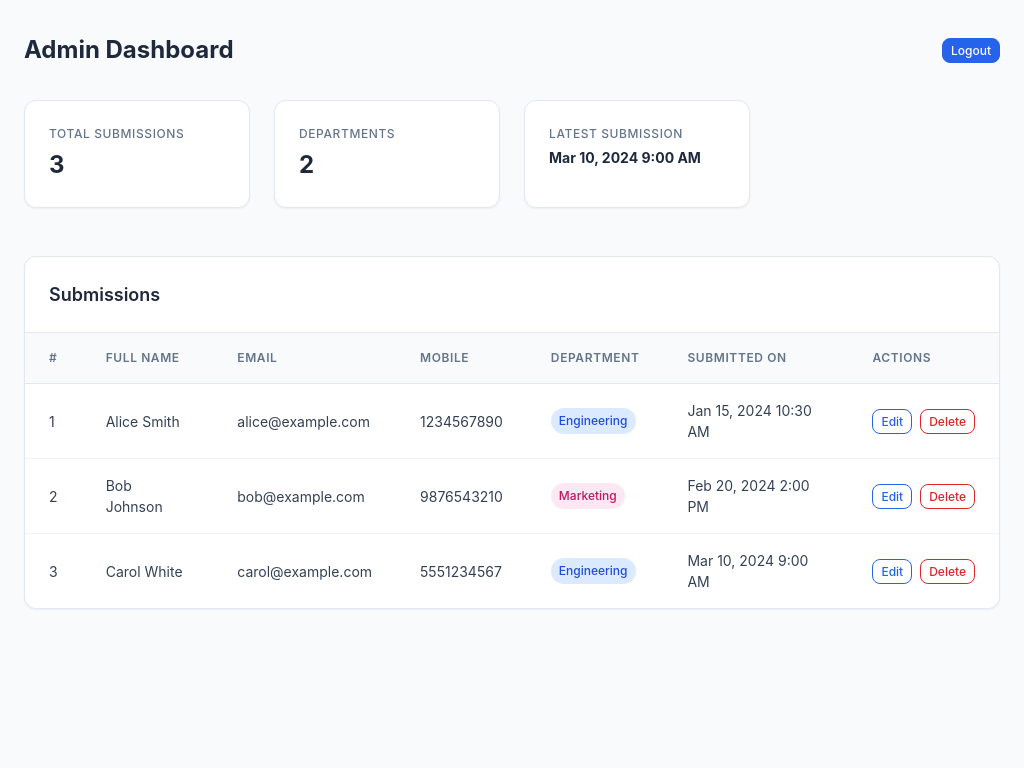
Scenario: AdminDashboard › edit button opens modal › opens the edit modal when Edit button is clicked
What coordinates should you click on to do the following:
click the button "Edit" in the row of "Alice Smith"
I would click on:
 (892, 421)
Its box is [872,408,912,434].
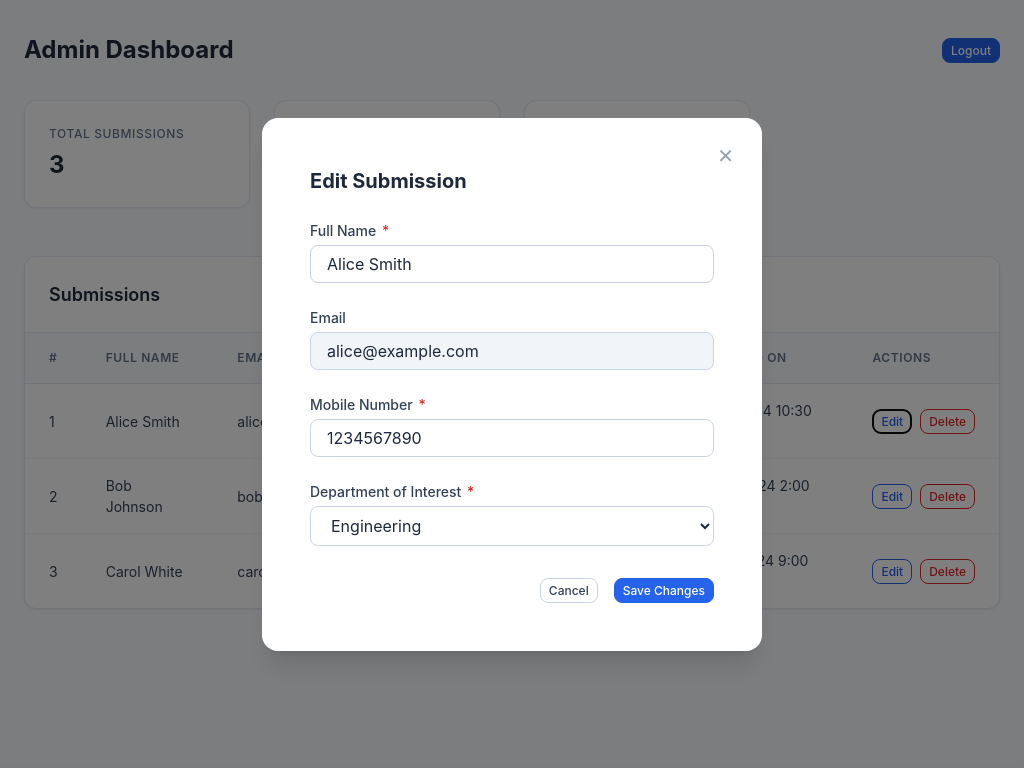
Check: the heading "Edit Submission" is shown, box [310,168,467,192]
Check: the field showing "Alice Smith" is shown, box [310,244,714,282]
Check: the field showing "alice@example.com" is shown, box [310,332,714,370]
